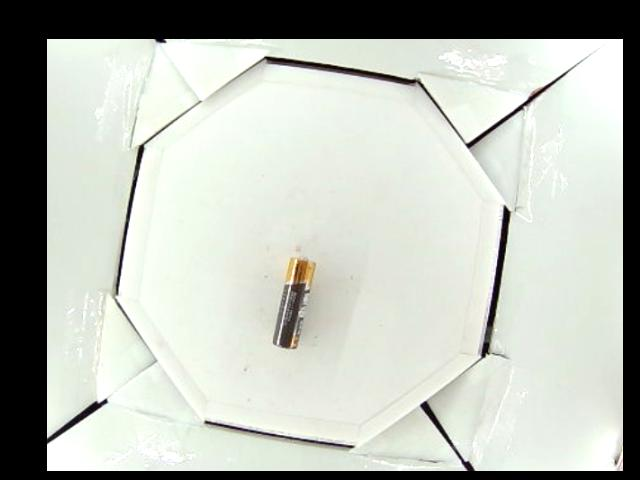Battery: (279, 256, 312, 351)
